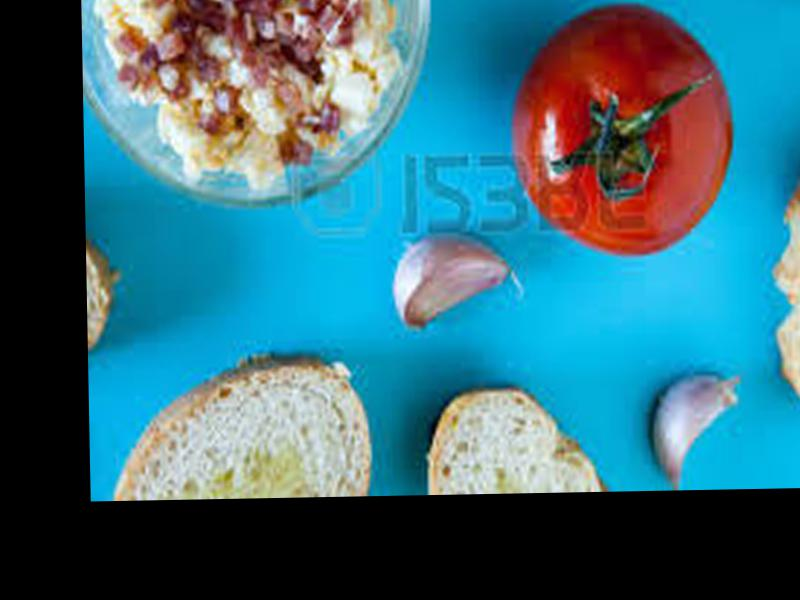Tomato: (518, 3, 735, 260)
